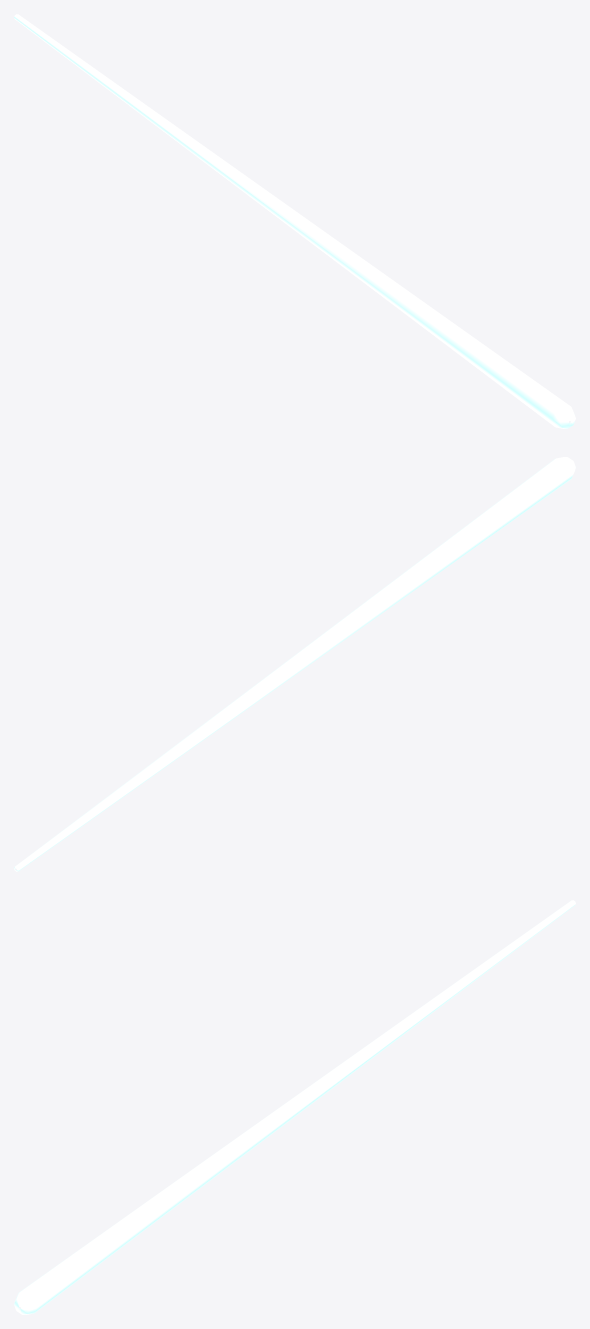
File: pulse_bolt.glb
3 views of the same model, one above another, from view 1: azimuth 30°, elevation 25°; view 2: azimuth 150°, elevation 25°; view 3: azimuth 330°, elevation 25° (orthographic).
Visible parts, largest first — view 1: pulse_bolt; view 2: pulse_bolt; view 3: pulse_bolt.
Boxes of the visible parts, bbox=[...] form: pulse_bolt: bbox=[14, 14, 575, 428]; pulse_bolt: bbox=[14, 457, 575, 871]; pulse_bolt: bbox=[14, 900, 575, 1314].
Bounding box in the file's own units: 0.024 × 0.024 × 1.02.
